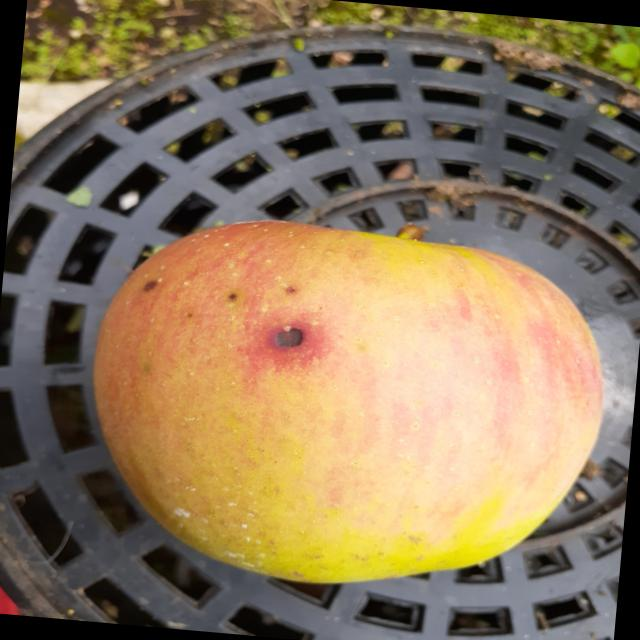rotten: (62, 194, 630, 622)
